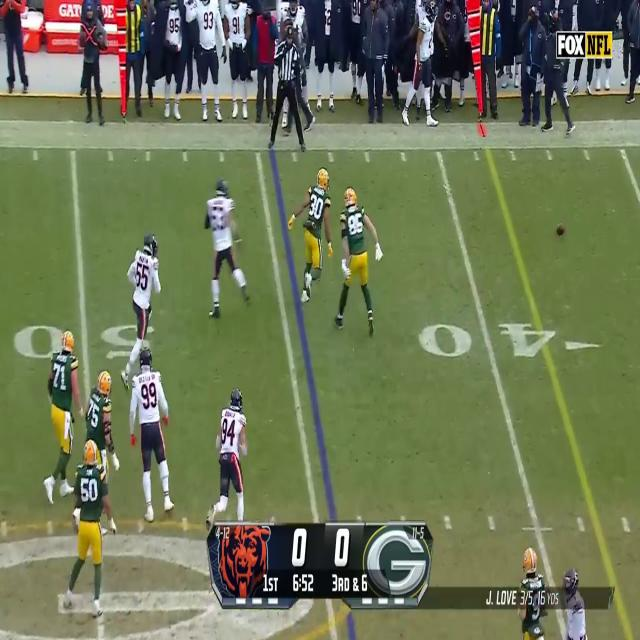Player: (132, 346, 168, 518), (336, 188, 375, 338), (72, 441, 105, 610), (46, 330, 77, 501), (203, 179, 240, 320), (215, 387, 249, 527), (300, 168, 334, 302), (129, 235, 162, 345), (520, 549, 548, 640), (86, 367, 111, 464), (562, 566, 591, 640)
Referee: (273, 26, 305, 144)
